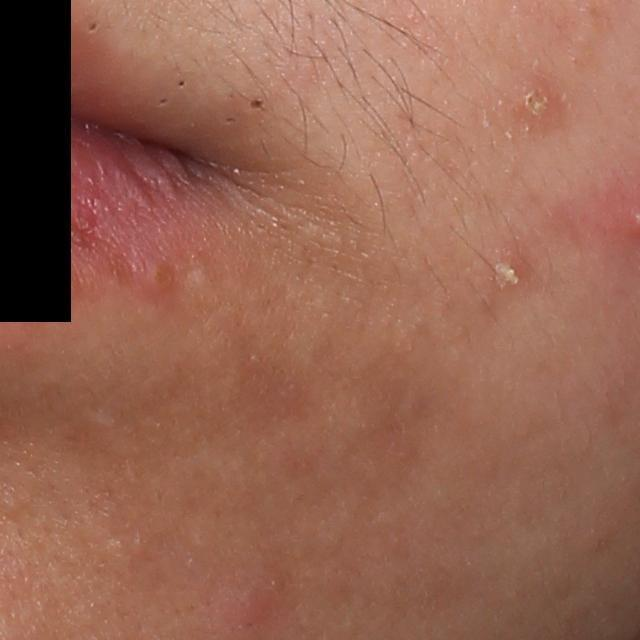comedo: (176, 76, 187, 90), (157, 97, 170, 108)
papule: (225, 578, 273, 632)
pustule: (513, 85, 551, 122), (490, 260, 524, 292)
